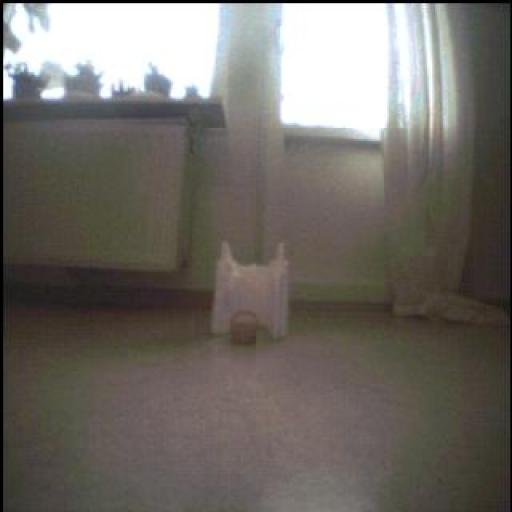Basket: (232, 311, 259, 345)
